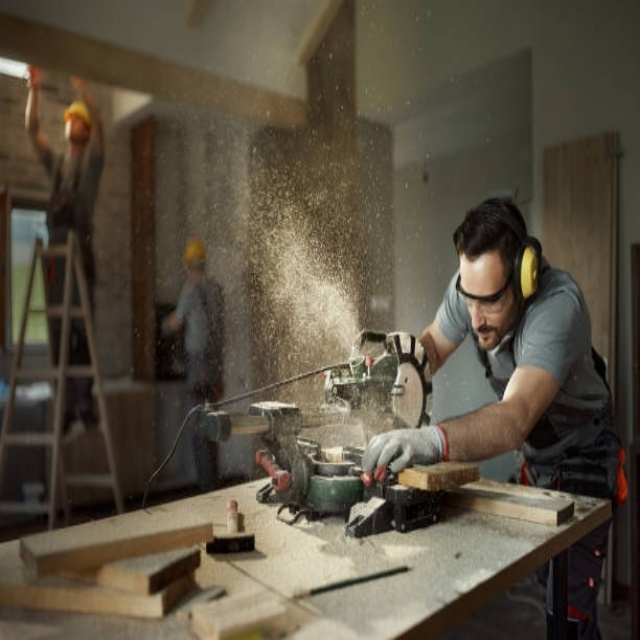Gafas: (457, 259, 510, 315)
Guantes: (364, 424, 445, 476)
Sin_mascara: (467, 322, 500, 353)
